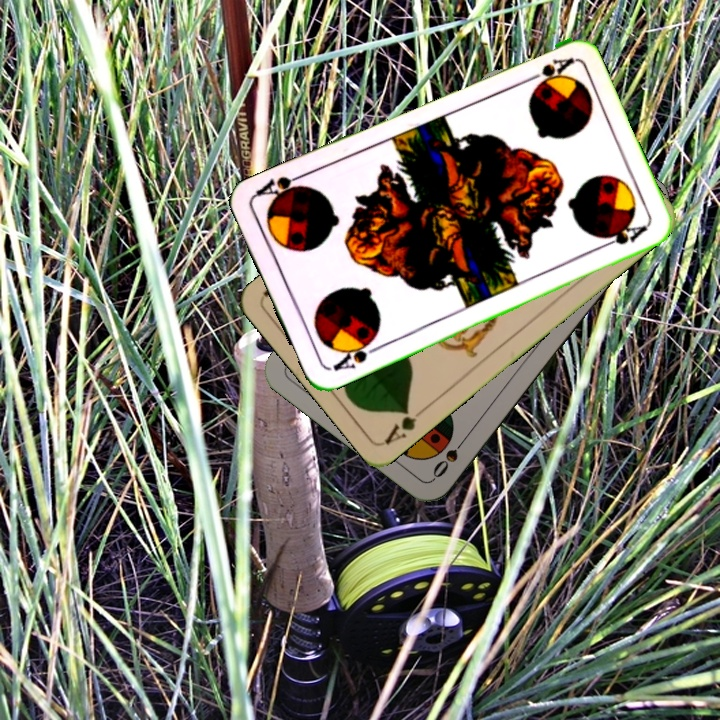GA: (381, 402, 430, 447)
SA: (328, 333, 384, 374), (519, 53, 575, 88)
SO: (428, 430, 471, 481)
